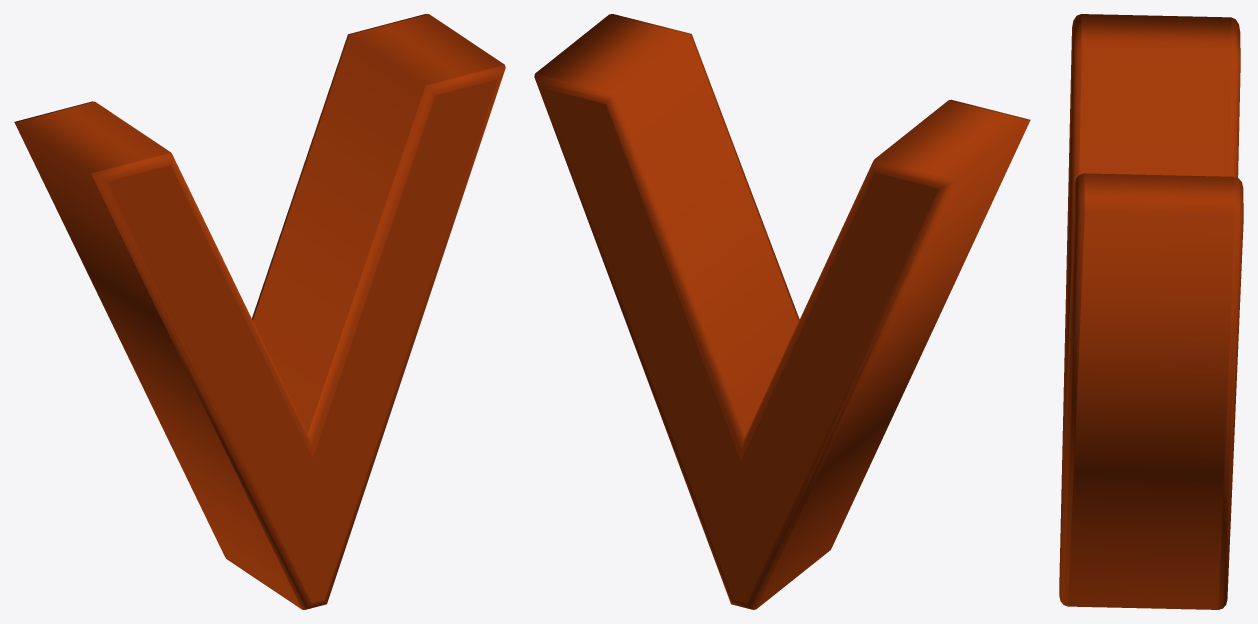
File: letters_V.obj
3 views of the same model, side by side, from view 1: azimuth 30°, elevation 25°; view 2: azimuth 150°, elevation 25°; view 3: azimuth 270°, elevation 25° (orthographic).
Visible parts, largest first — view 1: Text; view 2: Text; view 3: Text.
Part boxes in pixels (box(x1,y1,x2,y2)): Text: box(14, 14, 505, 609); Text: box(534, 14, 1030, 609); Text: box(1059, 14, 1243, 609).
Bounding box in the file's own units: 0.6417 × 0.7218 × 0.2458.
